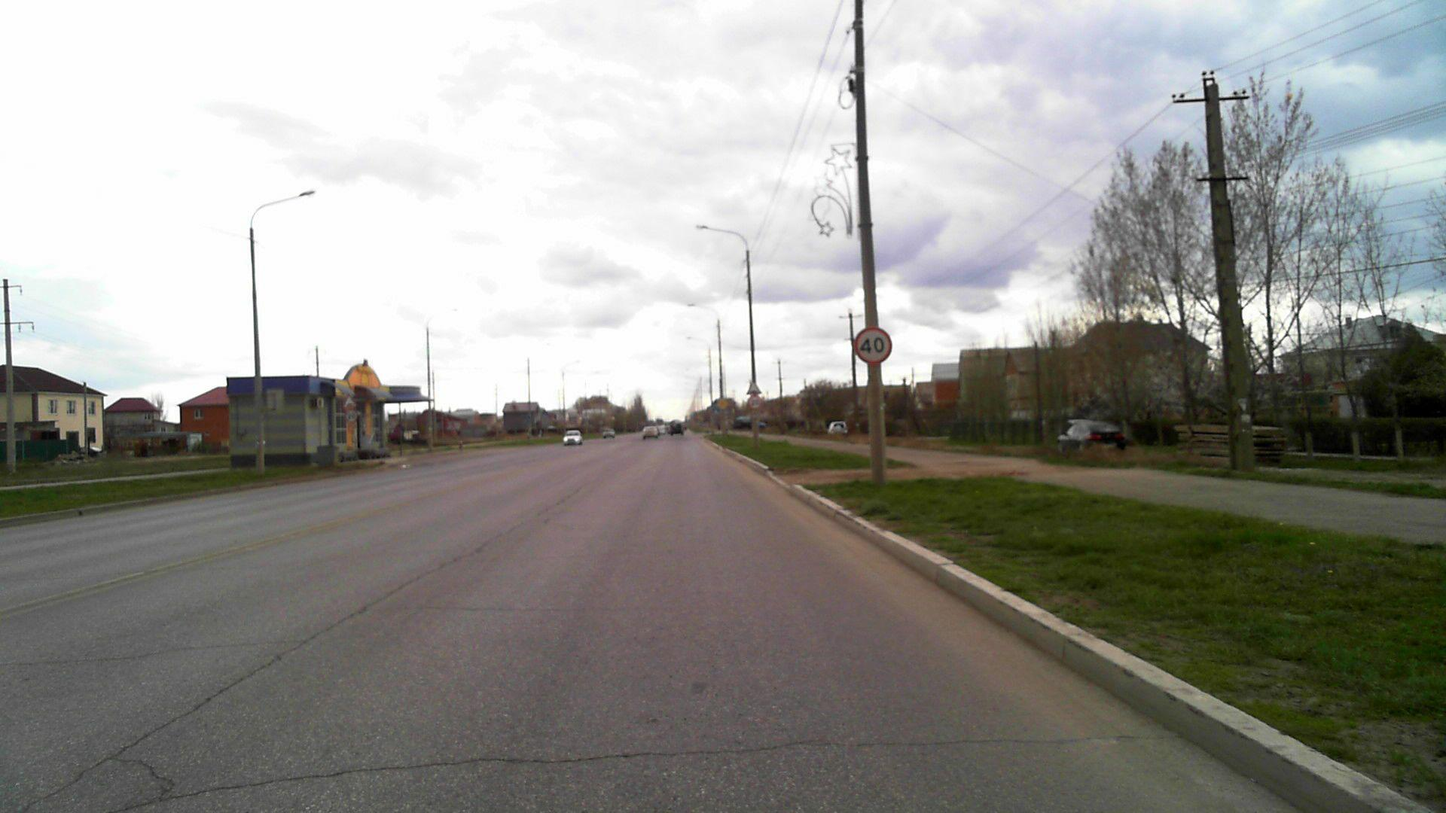road_sign: (854, 327, 892, 363)
